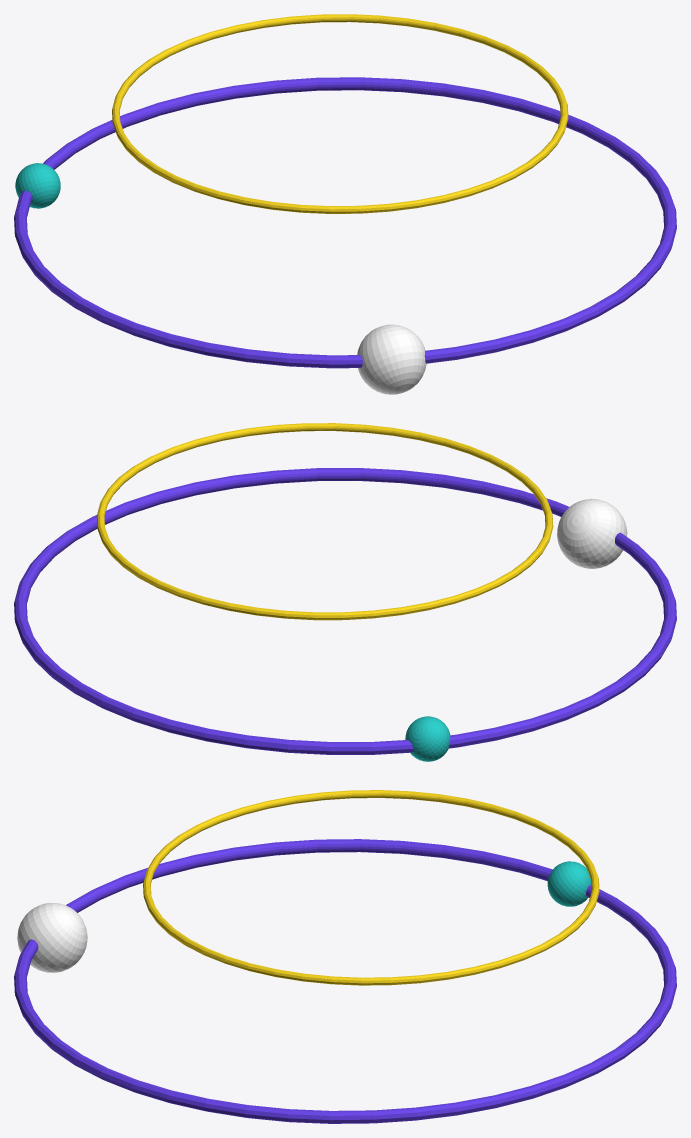
Rendered from frame 1.fbx.
The picture shows the model from 3 angles, top to bottom: view 1: azimuth 30°, elevation 25°; view 2: azimuth 150°, elevation 25°; view 3: azimuth 270°, elevation 25°; orthographic projection.
Parts seen in each view (by area): view 1: Sphere.003; view 2: Sphere.003; view 3: Sphere.003.
Boxes of the visible parts, <box> form: Sphere.003: <box>14,14,676,394</box>; Sphere.003: <box>14,423,676,761</box>; Sphere.003: <box>14,790,676,1123</box>.
Bounding box in the file's own units: 755 × 175 × 755.
